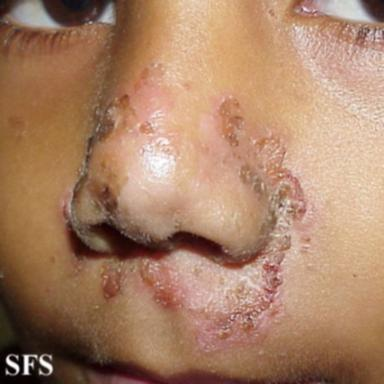Impetigo: (99, 95, 318, 354), (60, 59, 175, 254), (68, 243, 88, 279)
